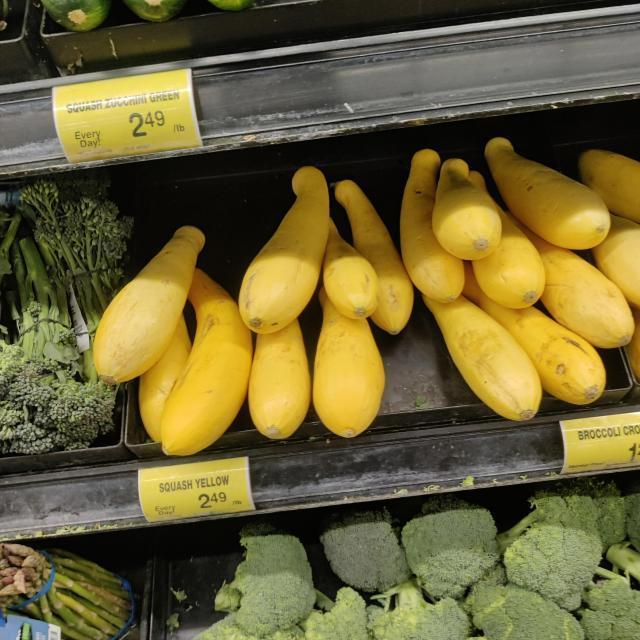Broccoli: (215, 522, 317, 638), (504, 494, 604, 610), (403, 494, 505, 600), (321, 506, 410, 590)
Squash: (94, 224, 206, 386), (160, 267, 252, 458), (239, 166, 330, 334), (485, 137, 611, 250), (332, 179, 416, 334), (434, 158, 502, 260)
